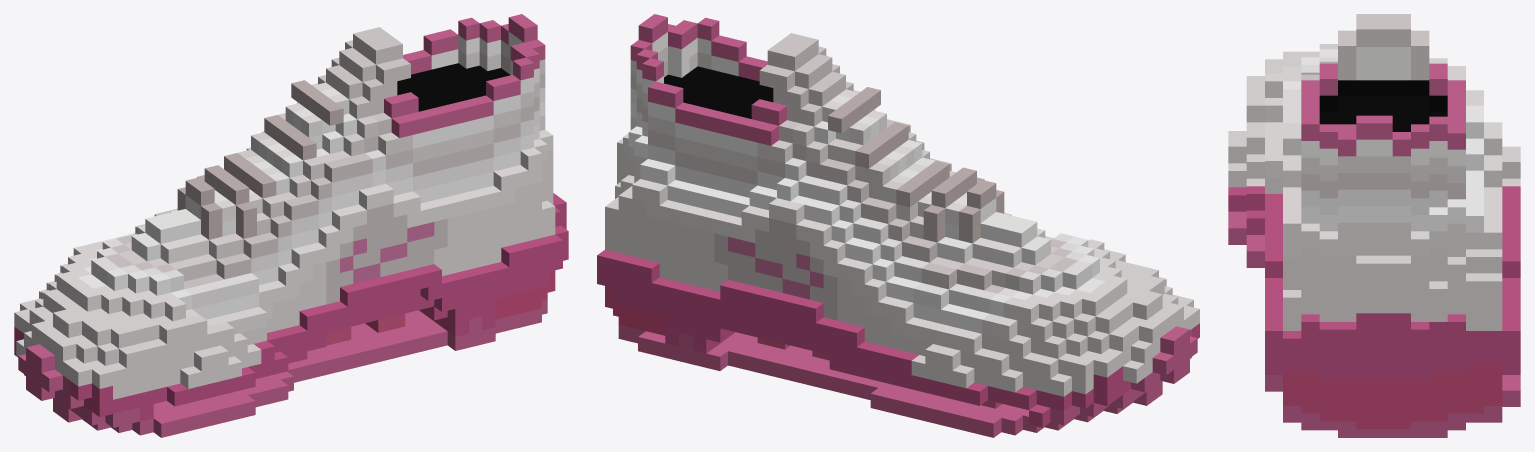
The model's file is Pink Cloud.fbx.
The picture shows the model from 3 angles, left to right: view 1: azimuth 30°, elevation 25°; view 2: azimuth 150°, elevation 25°; view 3: azimuth 270°, elevation 25°; orthographic projection. The views are drawn at different scales.
Parts seen in each view (by area): view 1: Untitled; view 2: Untitled; view 3: Untitled.
Boxes of the visible parts, <box> form: Untitled: <box>14,14,568,437</box>; Untitled: <box>597,14,1199,437</box>; Untitled: <box>1228,14,1520,437</box>.
Size of the model in its own units: 390 by 200 by 160.
